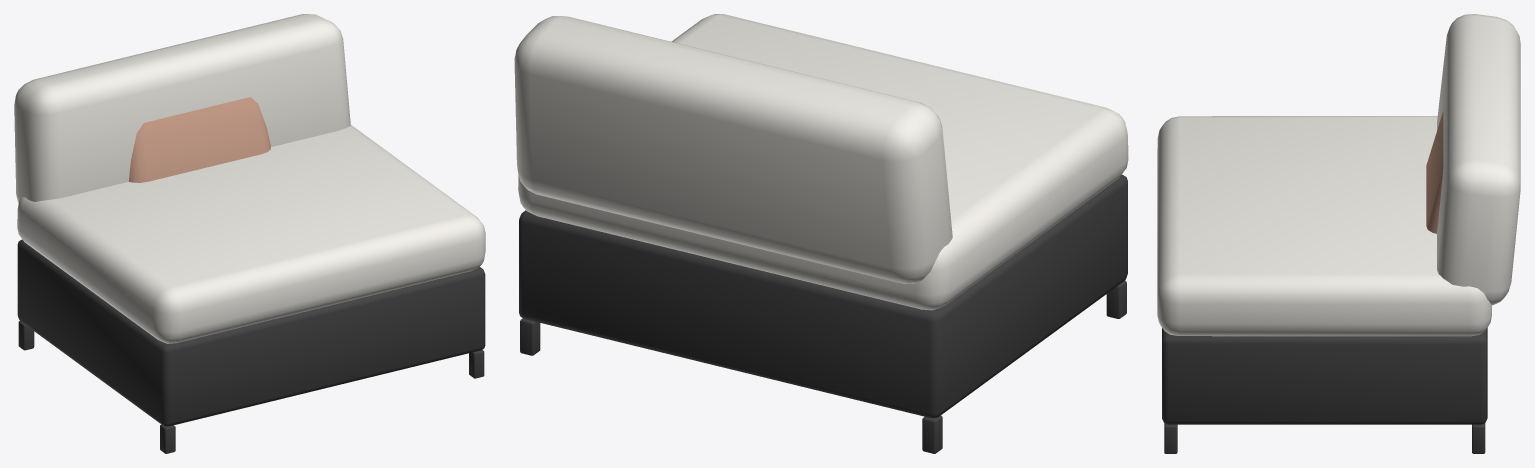
File: lounge_modulo.glb
The picture shows the model from 3 angles, left to right: view 1: azimuth 30°, elevation 25°; view 2: azimuth 150°, elevation 25°; view 3: azimuth 270°, elevation 25°; orthographic projection. The views are drawn at different scales.
Visible parts, largest first — view 1: pe.003; view 2: pe.003; view 3: pe.003.
Boxes of the visible parts, x1,y1,x2,y2 form: pe.003: [14, 14, 485, 453]; pe.003: [514, 14, 1128, 453]; pe.003: [1157, 14, 1520, 453].
Size of the model in its own units: 0.9306 by 0.6969 by 0.8152.
